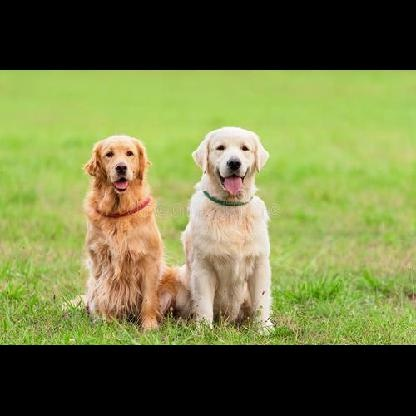狗: (178, 127, 273, 333), (82, 134, 176, 328)
